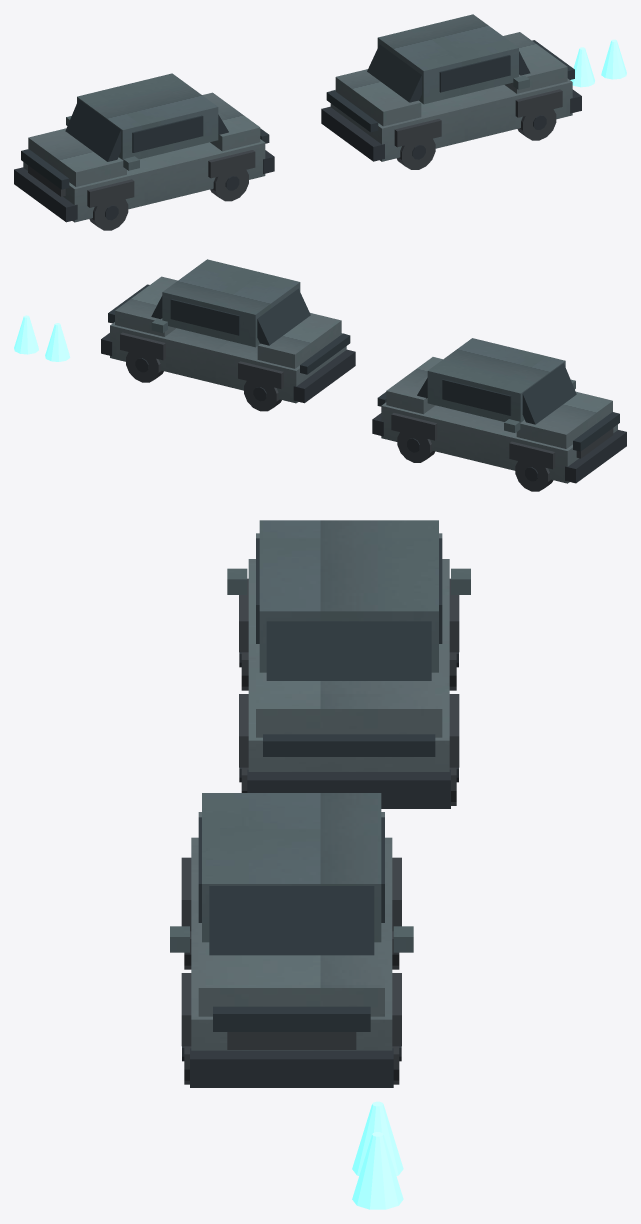
The model's file is decor-props-c.glb.
3 views of the same model, one above another, from view 1: azimuth 30°, elevation 25°; view 2: azimuth 150°, elevation 25°; view 3: azimuth 270°, elevation 25° (orthographic). The views are drawn at different scales.
Visible parts, largest first — view 1: DecorPropsC; view 2: DecorPropsC; view 3: DecorPropsC.
Boxes of the visible parts, bbox=[...] form: DecorPropsC: bbox=[14, 14, 626, 230]; DecorPropsC: bbox=[14, 259, 626, 491]; DecorPropsC: bbox=[170, 520, 470, 1209].
Bounding box in the file's own units: 0.9311 × 0.14 × 0.21.
Materials: 6 (2 with a texture image).
